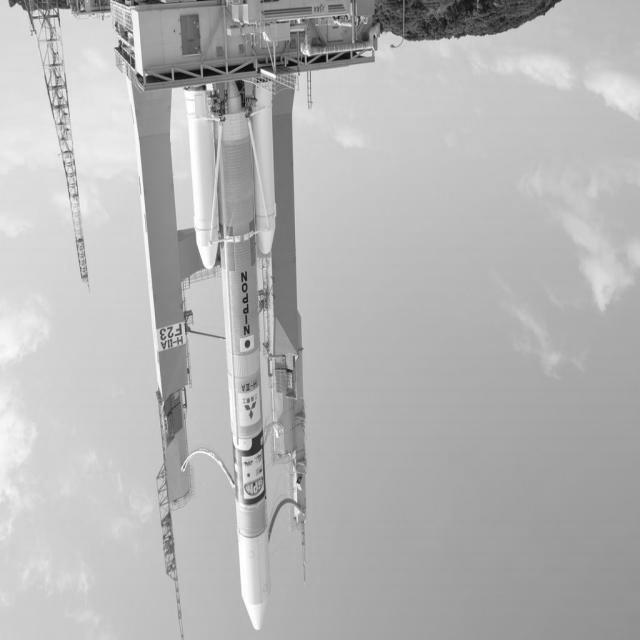missile: (213, 71, 270, 634), (184, 85, 222, 277), (249, 81, 278, 262)
